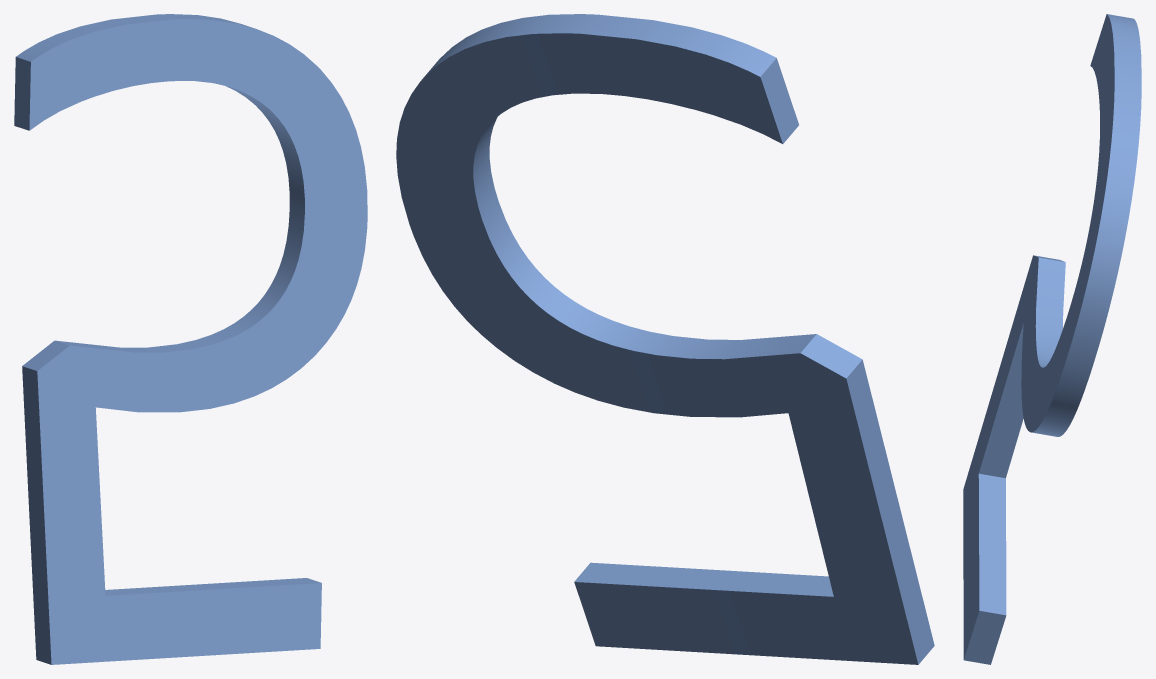
The model's file is New_Number_5.gltf.
The picture shows the model from 3 angles, left to right: view 1: azimuth 30°, elevation 25°; view 2: azimuth 150°, elevation 25°; view 3: azimuth 270°, elevation 25°; orthographic projection. The views are drawn at different scales.
Visible parts, largest first — view 1: Part 491; view 2: Part 491; view 3: Part 491.
Part boxes in pixels (left/top/right/bottom): Part 491: left=14, top=14, right=367, bottom=664; Part 491: left=396, top=14, right=934, bottom=664; Part 491: left=963, top=14, right=1141, bottom=664.
Size of the model in its own units: 0.00374 by 0.00573 by 0.00164.
